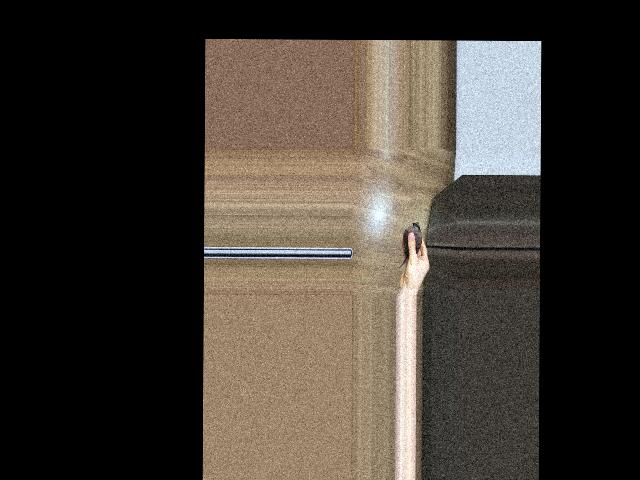beet: (396, 221, 421, 267)
